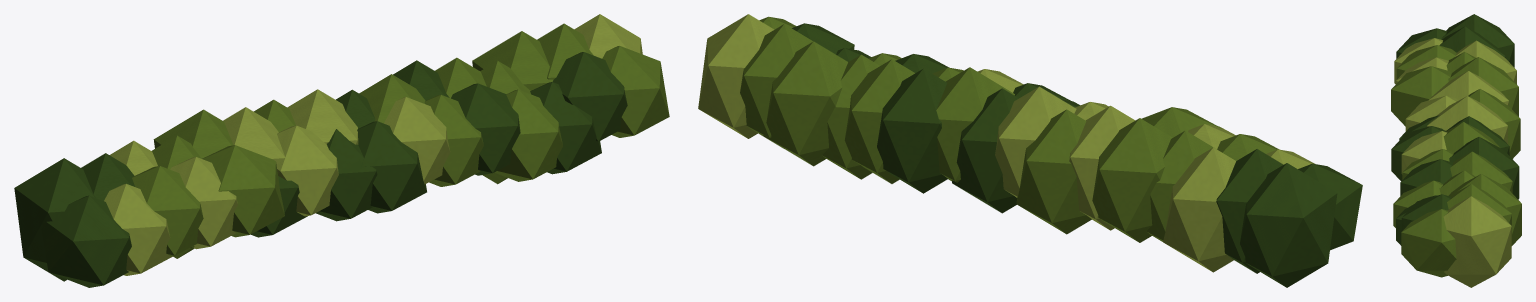
File: PMU_Haie_8.glb
3 views of the same model, side by side, from view 1: azimuth 30°, elevation 25°; view 2: azimuth 150°, elevation 25°; view 3: azimuth 270°, elevation 25° (orthographic). The views are drawn at different scales.
Parts seen in each view (by area): view 1: PMU_Haie_8; view 2: PMU_Haie_8; view 3: PMU_Haie_8.
Boxes of the visible parts, left/top/right/bottom form: PMU_Haie_8: left=14, top=14, right=669, bottom=287; PMU_Haie_8: left=698, top=14, right=1362, bottom=287; PMU_Haie_8: left=1391, top=14, right=1521, bottom=287.
Size of the model in its own units: 8.64 by 1.89 by 2.14.
Materials: 1 (1 with a texture image).
